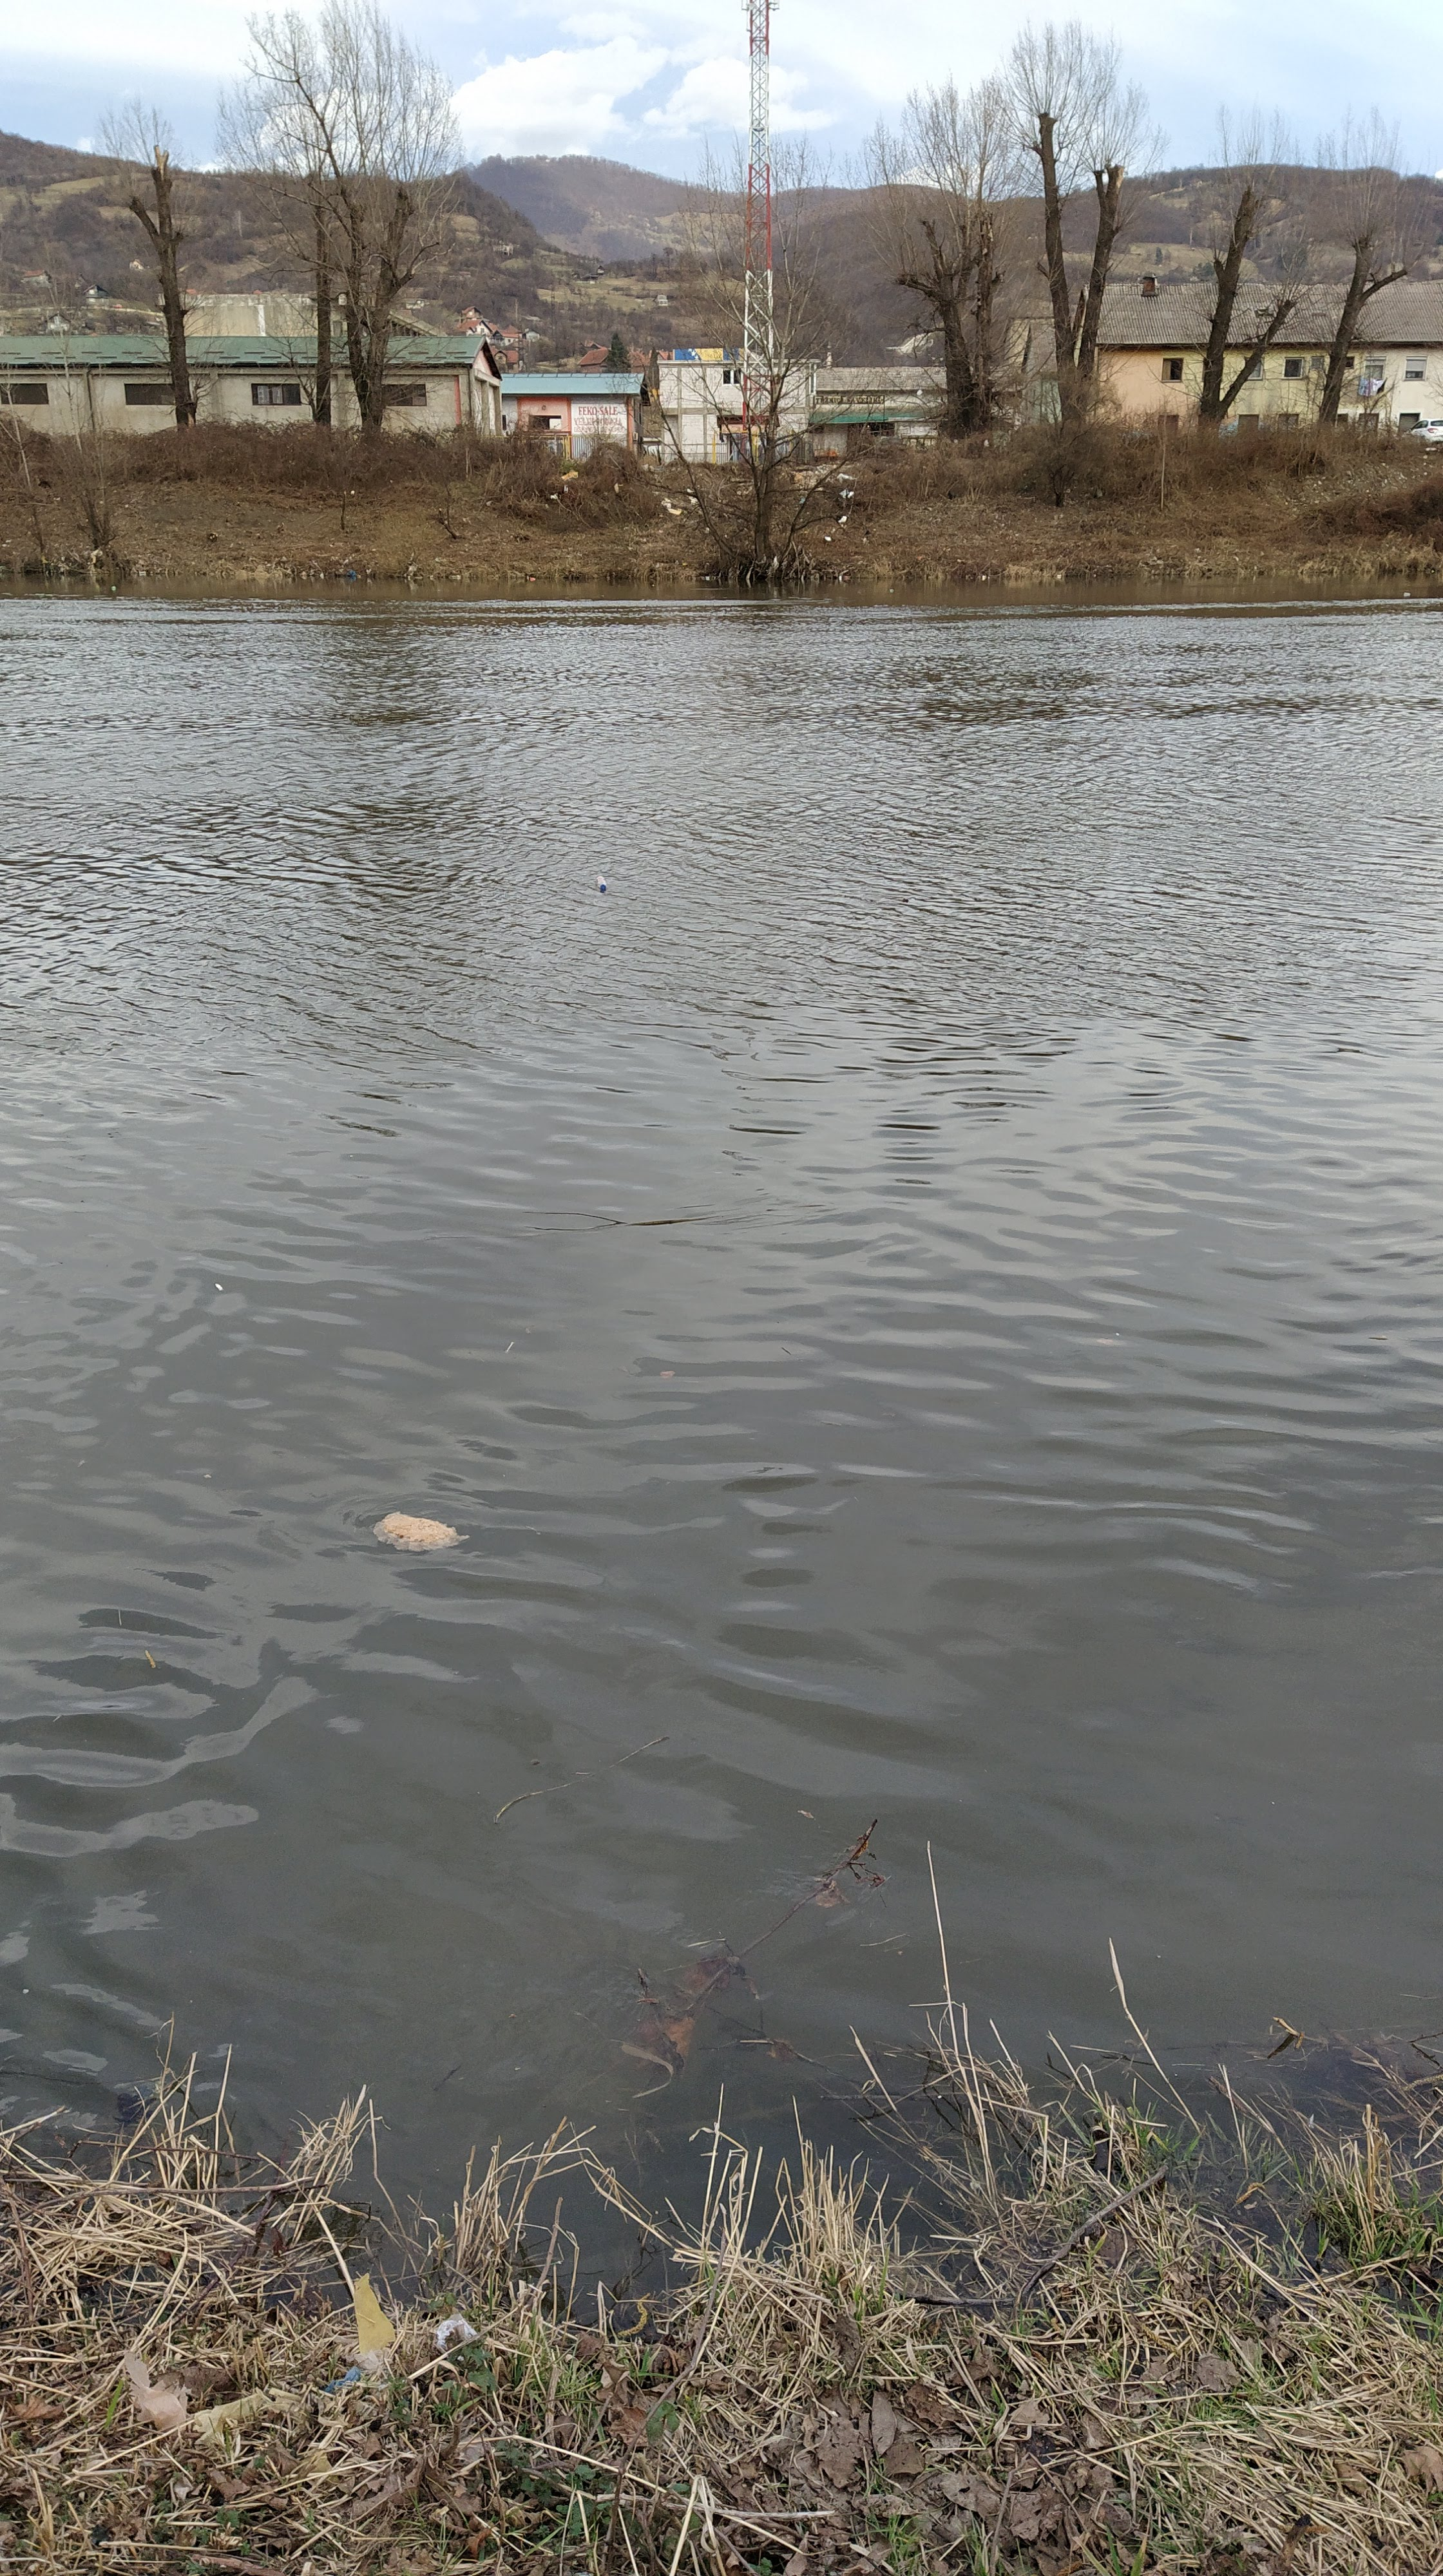Plastic Bottle: (597, 876, 606, 890), (1402, 593, 1409, 596), (112, 586, 115, 591)
